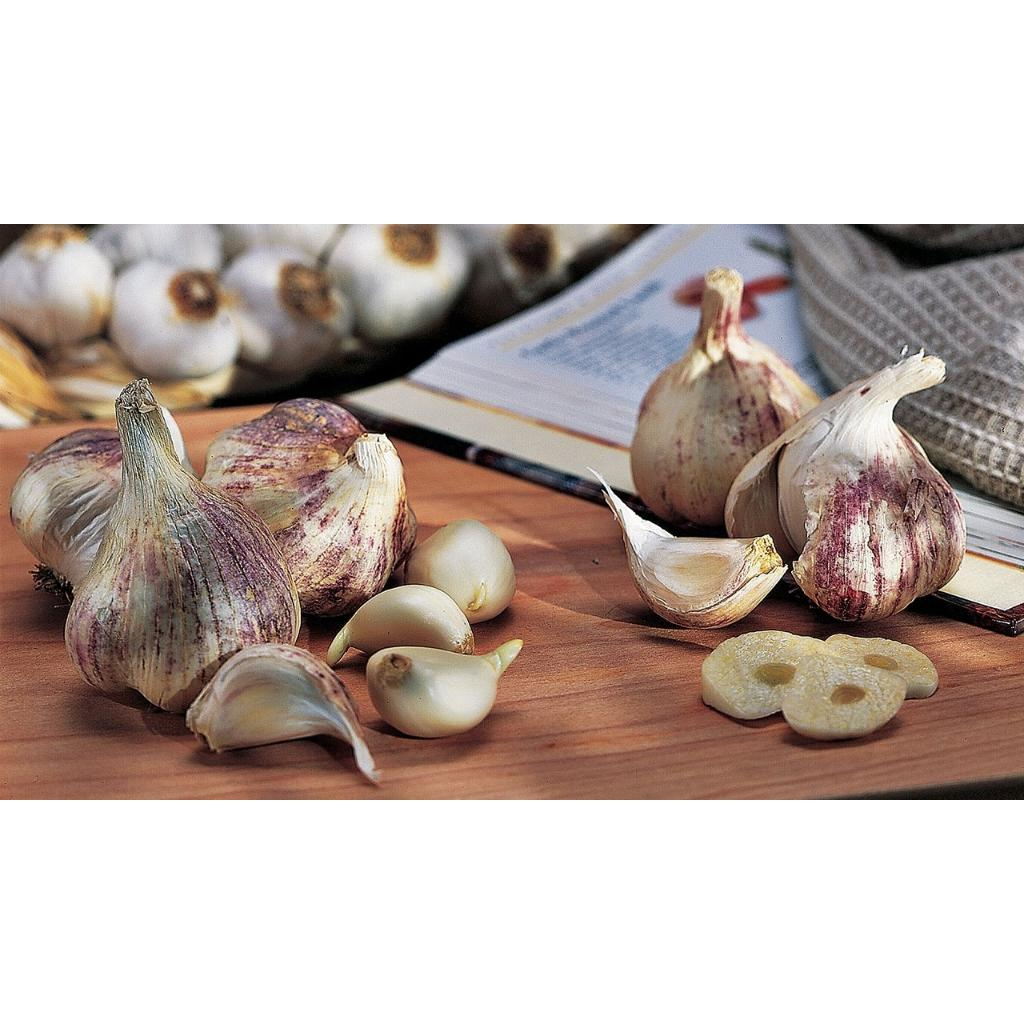garlic: (64, 378, 299, 711), (724, 350, 964, 619), (630, 266, 818, 525), (202, 398, 415, 615), (588, 468, 785, 626), (186, 643, 379, 781), (10, 428, 121, 586), (366, 638, 521, 736), (326, 584, 473, 665), (404, 518, 514, 622)
